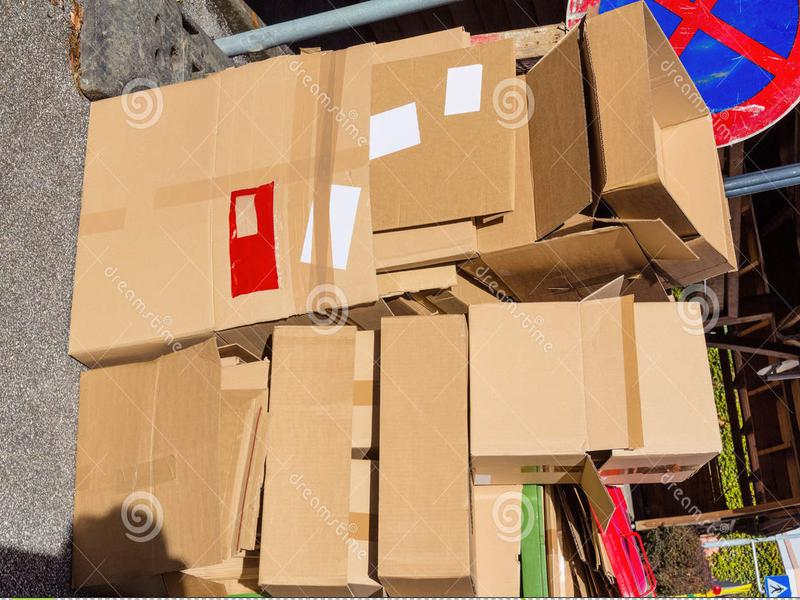cardboard: (57, 16, 542, 365), (543, 1, 736, 298), (75, 337, 266, 590), (465, 287, 634, 486), (257, 322, 377, 597), (376, 309, 470, 591), (637, 297, 728, 486), (513, 485, 653, 600)
